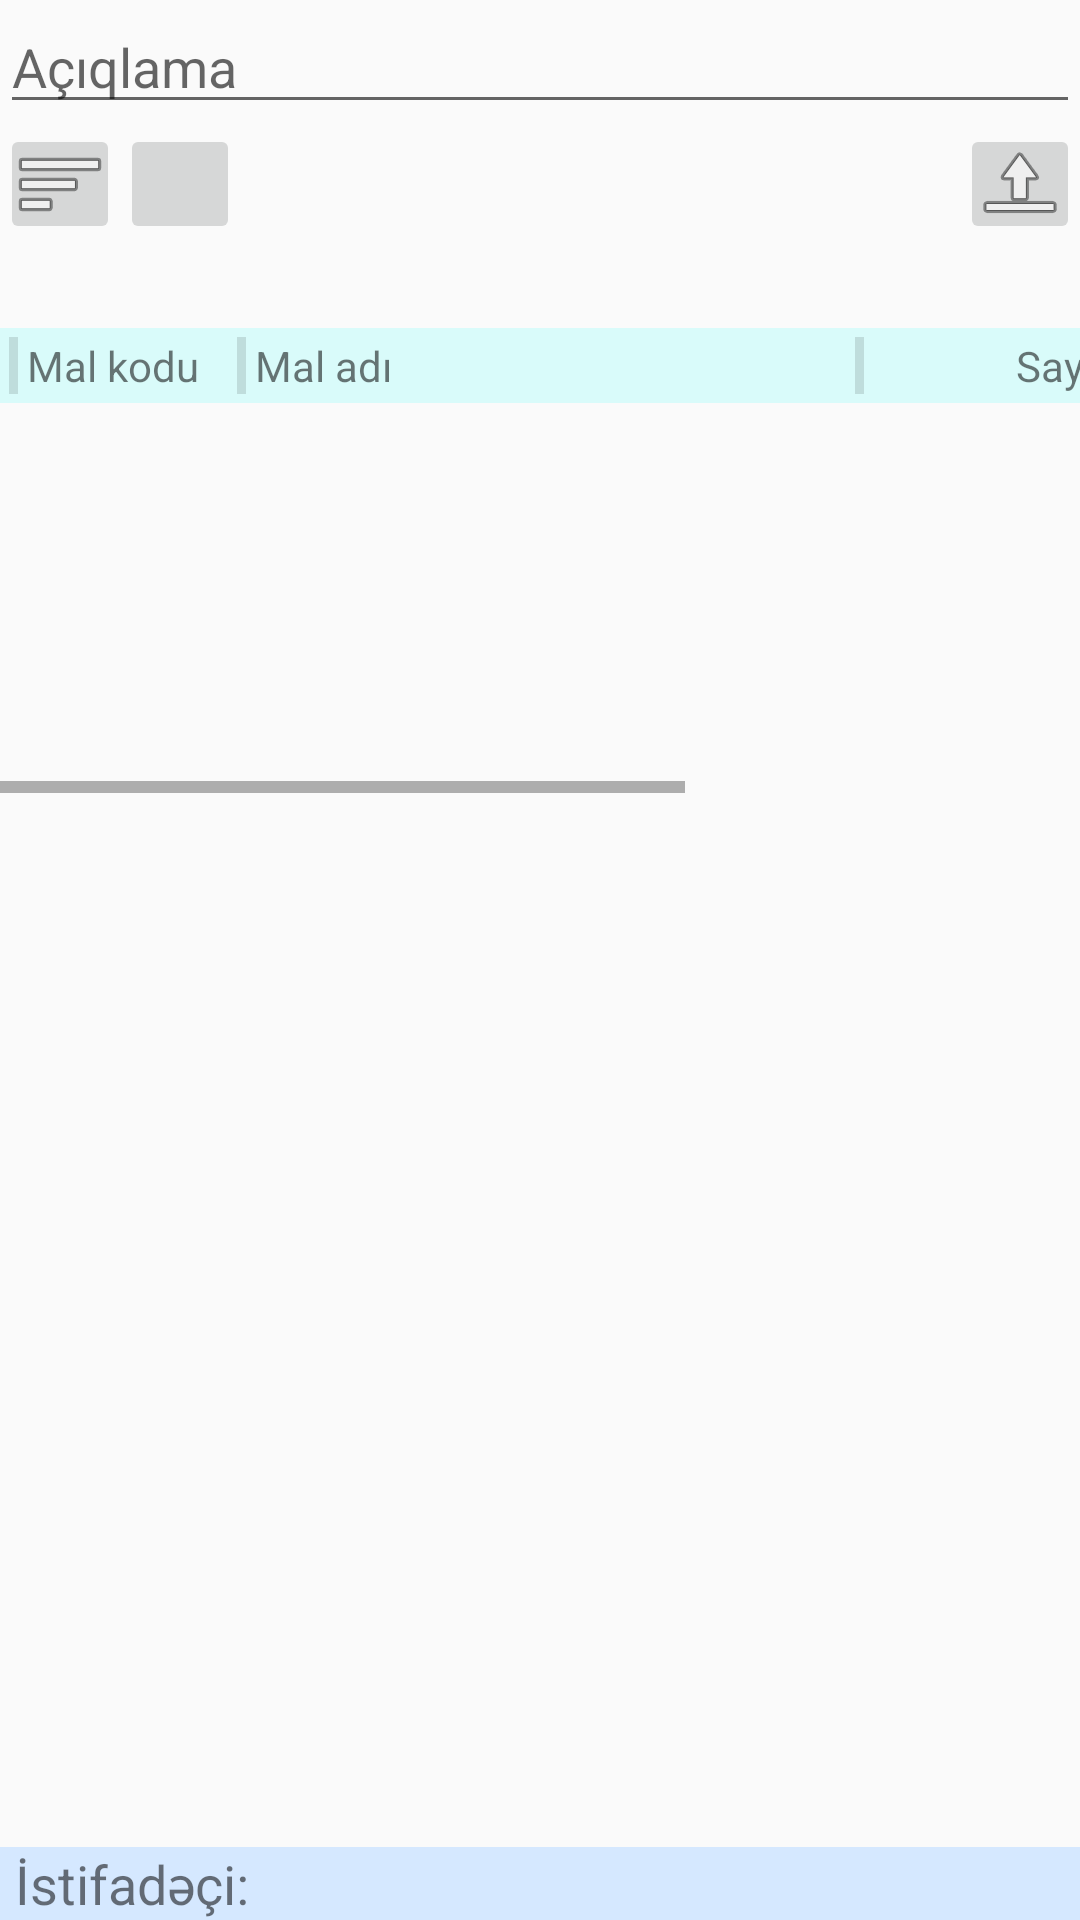

Where to tap for icons on this 1080px×1920px app screen, as point (x, y):
Göndər: point (1020, 184)
